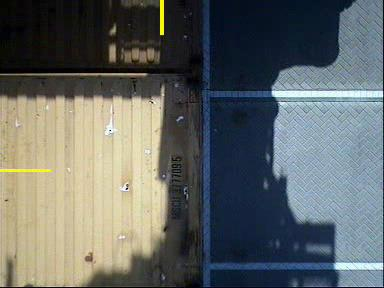groundmarker_2: (170, 160, 248, 209), (172, 25, 250, 74)
